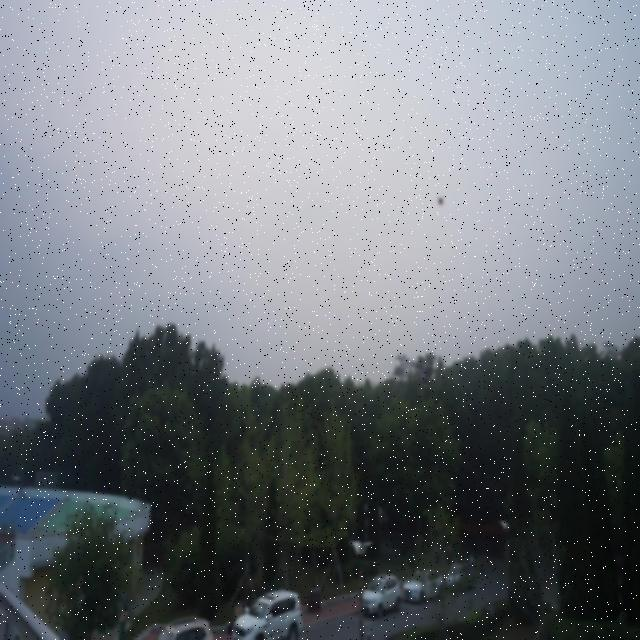UAV: (437, 196, 445, 207)
